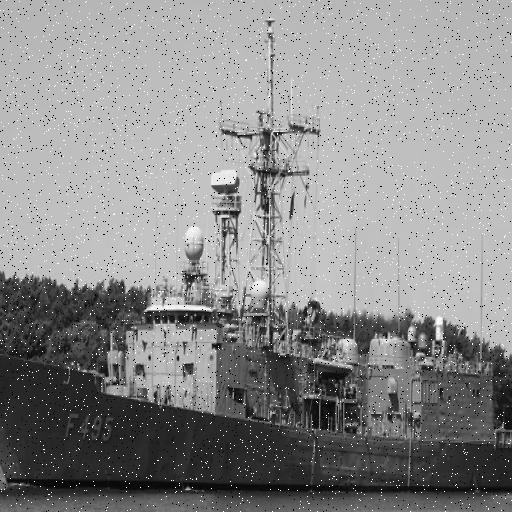Fragata: (1, 13, 512, 501)
